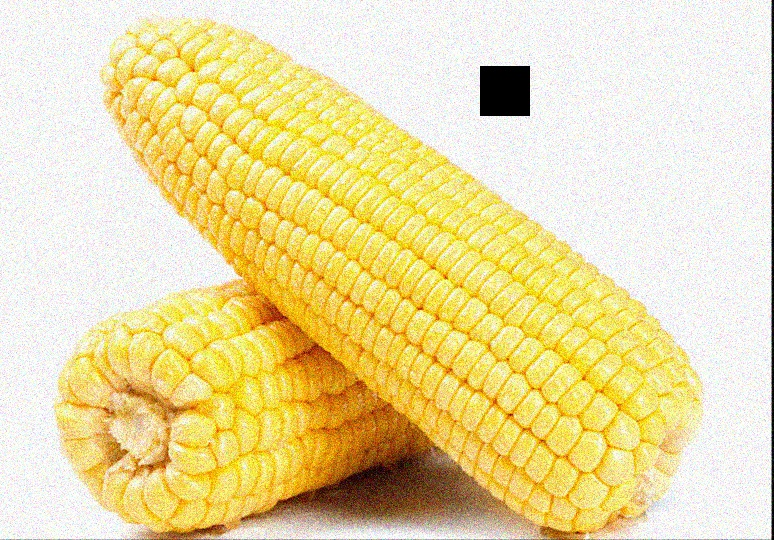corn: (105, 14, 682, 504), (53, 250, 547, 532)
